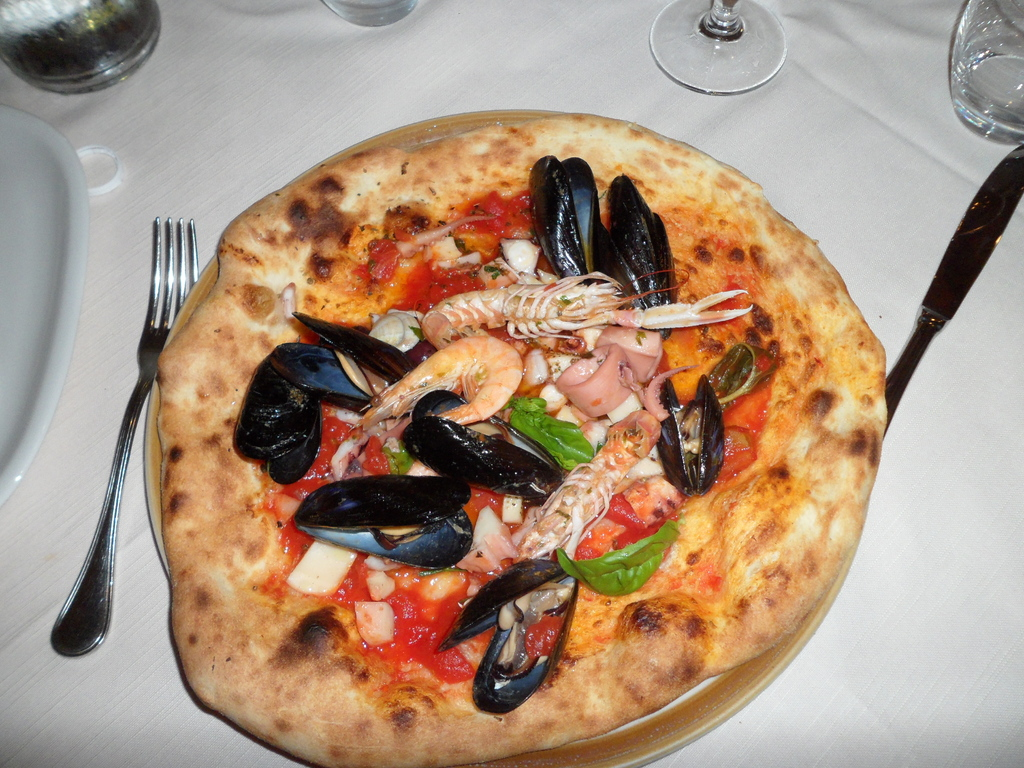Pizza: (151, 111, 890, 767)
